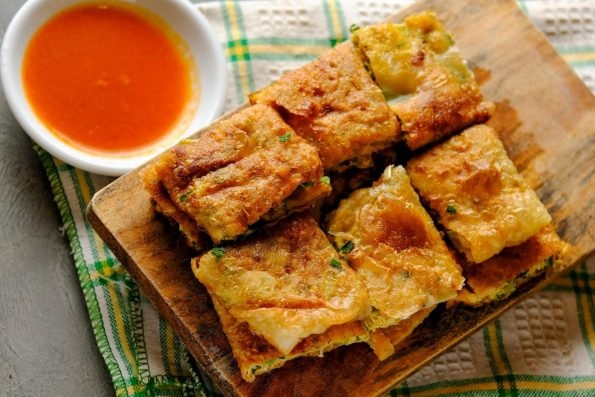martabak: (139, 11, 571, 383)
